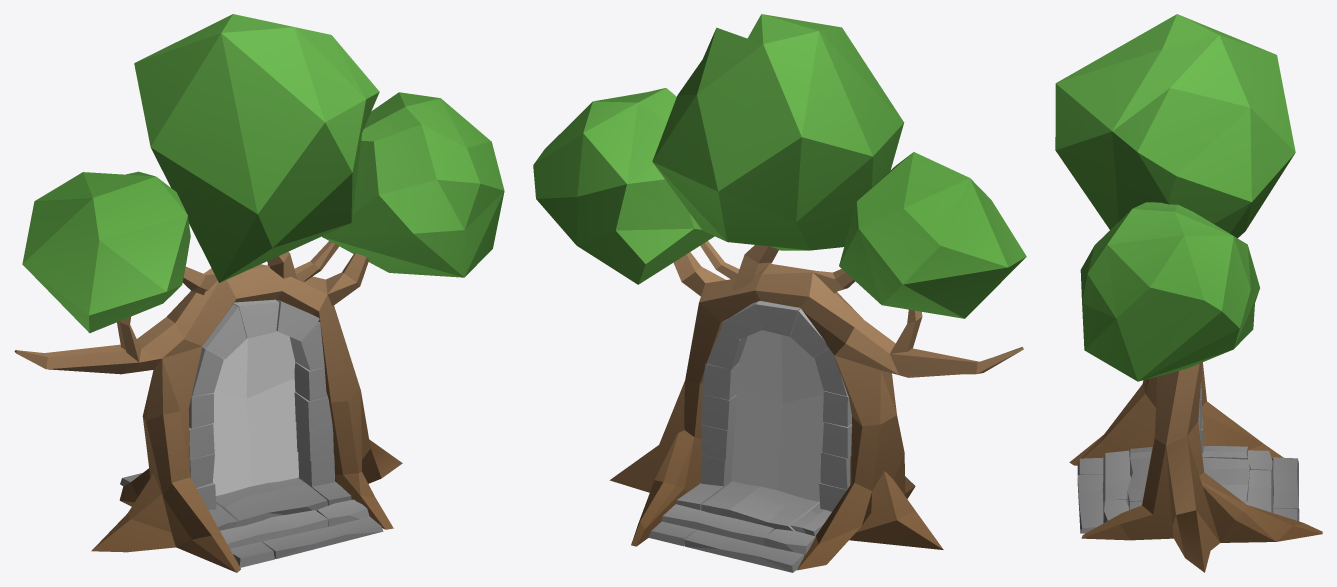
File: tree_portal_green.fbx
3 renders of one model, left to right at view 1: azimuth 30°, elevation 25°; view 2: azimuth 150°, elevation 25°; view 3: azimuth 270°, elevation 25°, orthographic. The views are drawn at different scales.
Parts seen in each view (by area): view 1: tree_portal_green; view 2: tree_portal_green; view 3: tree_portal_green.
Part boxes in pixels (x1,y1,x2,y2): tree_portal_green: (14,14,504,572); tree_portal_green: (533,14,1026,572); tree_portal_green: (1055,14,1322,572).
Size of the model in its own units: 12.03 by 11.97 by 6.2.
Materials: 2 (1 with a texture image).
